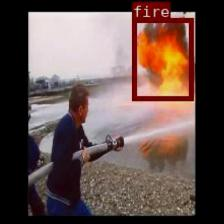fire: (132, 18, 192, 100)
